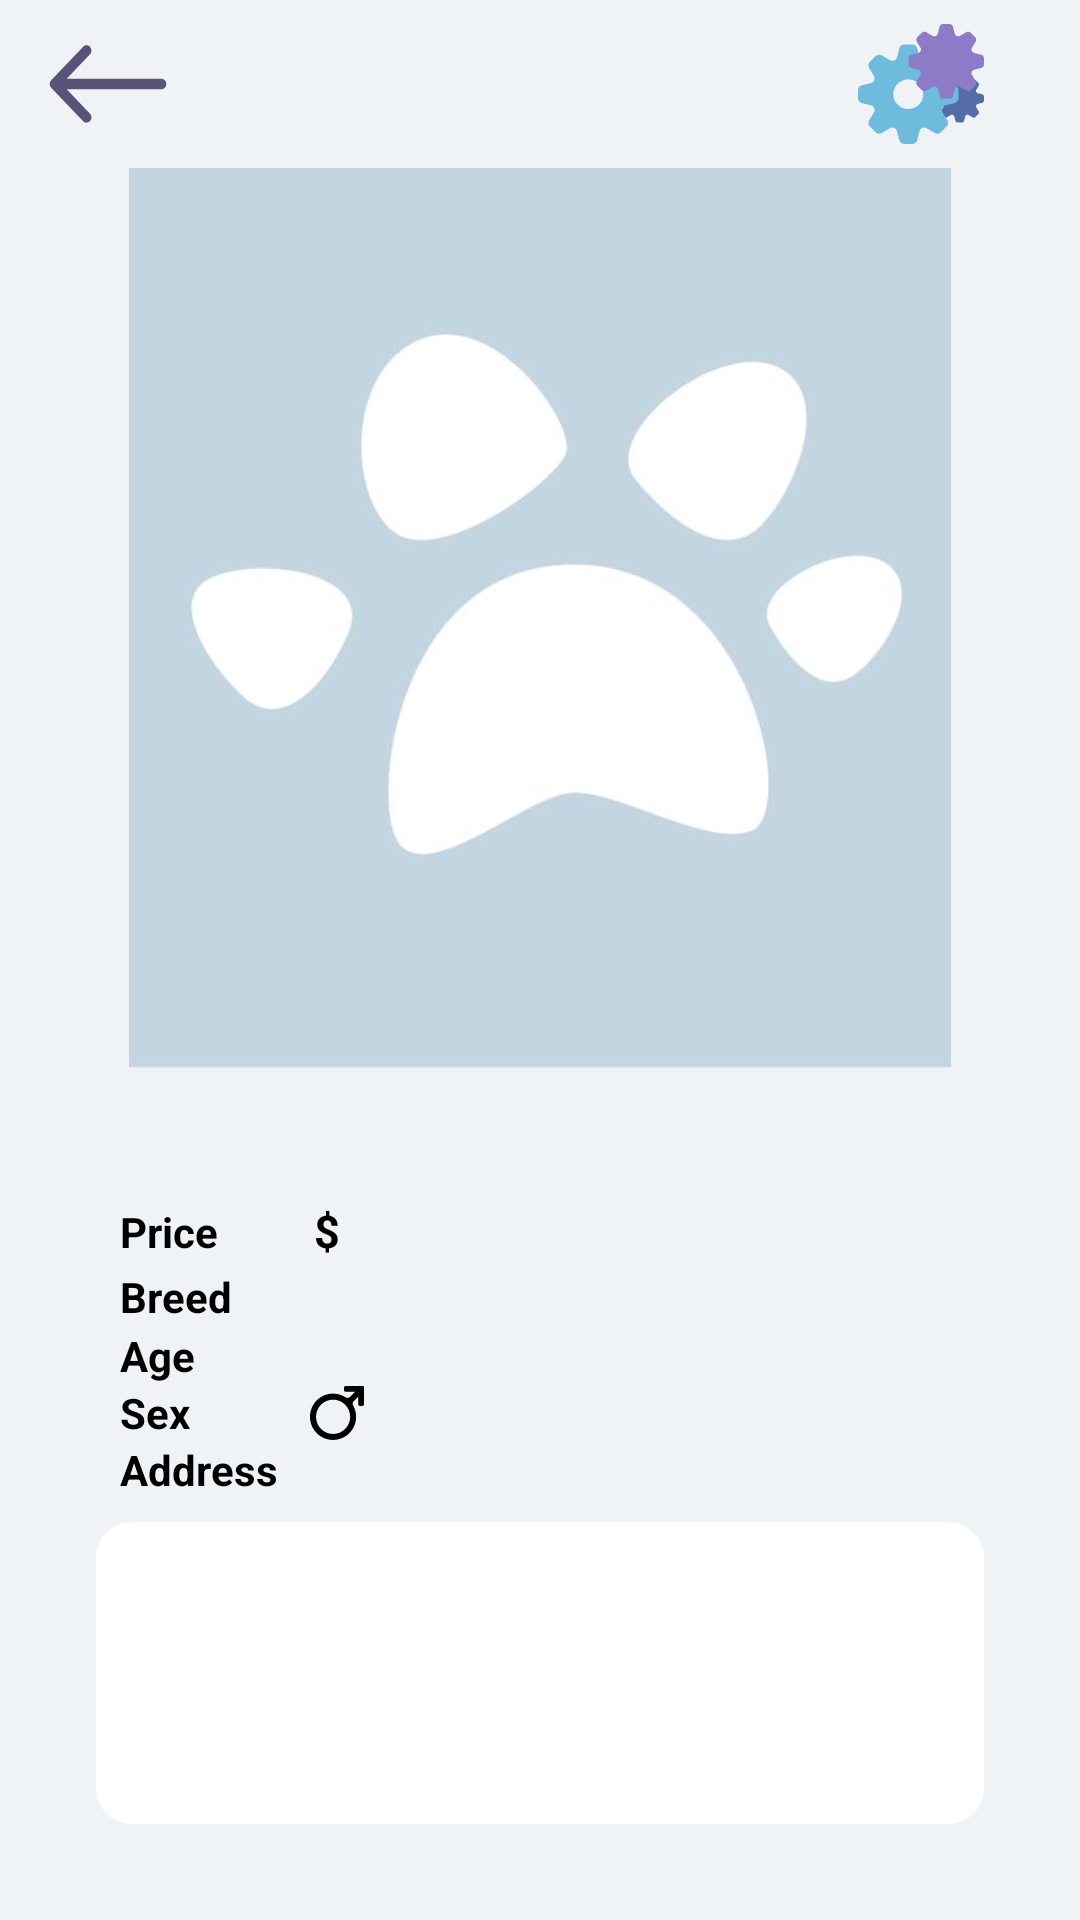

Screen size 1080px x 1920px. Icon name, then its center in pixels as [x,y]:
arrow: [108,84]
male: [337,1413]
settings: [921,84]
